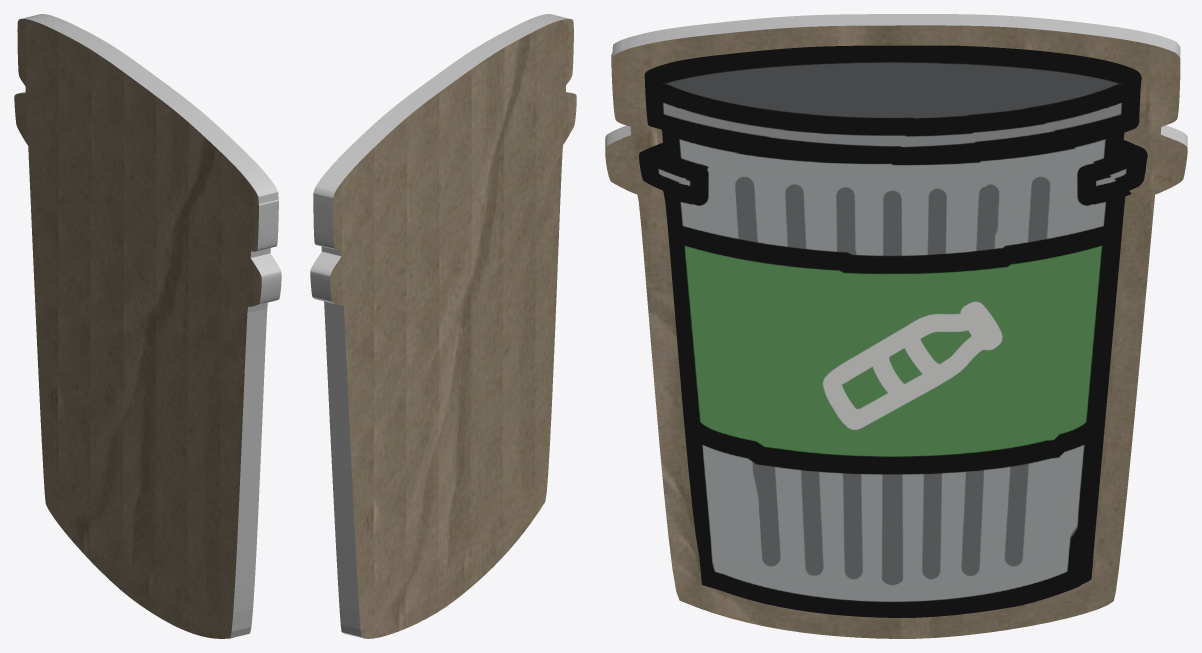
Rendered from trashcan1.fbx.
3 renders of one model, left to right at view 1: azimuth 30°, elevation 25°; view 2: azimuth 150°, elevation 25°; view 3: azimuth 270°, elevation 25°, orthographic. The views are drawn at different scales.
Visible parts, largest first — view 1: trashcan 1.001; view 2: trashcan 1.001; view 3: trashcan 1.002, trashcan 1.001.
Part boxes in pixels (box(x1,y1,x2,y2)): trashcan 1.001: box(14, 14, 281, 638); trashcan 1.001: box(310, 14, 576, 638); trashcan 1.002: box(639, 45, 1147, 617); trashcan 1.001: box(605, 14, 1187, 638).
Size of the model in its own units: 7 by 175 by 150.
